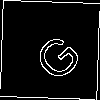G: (24, 24, 84, 85)
